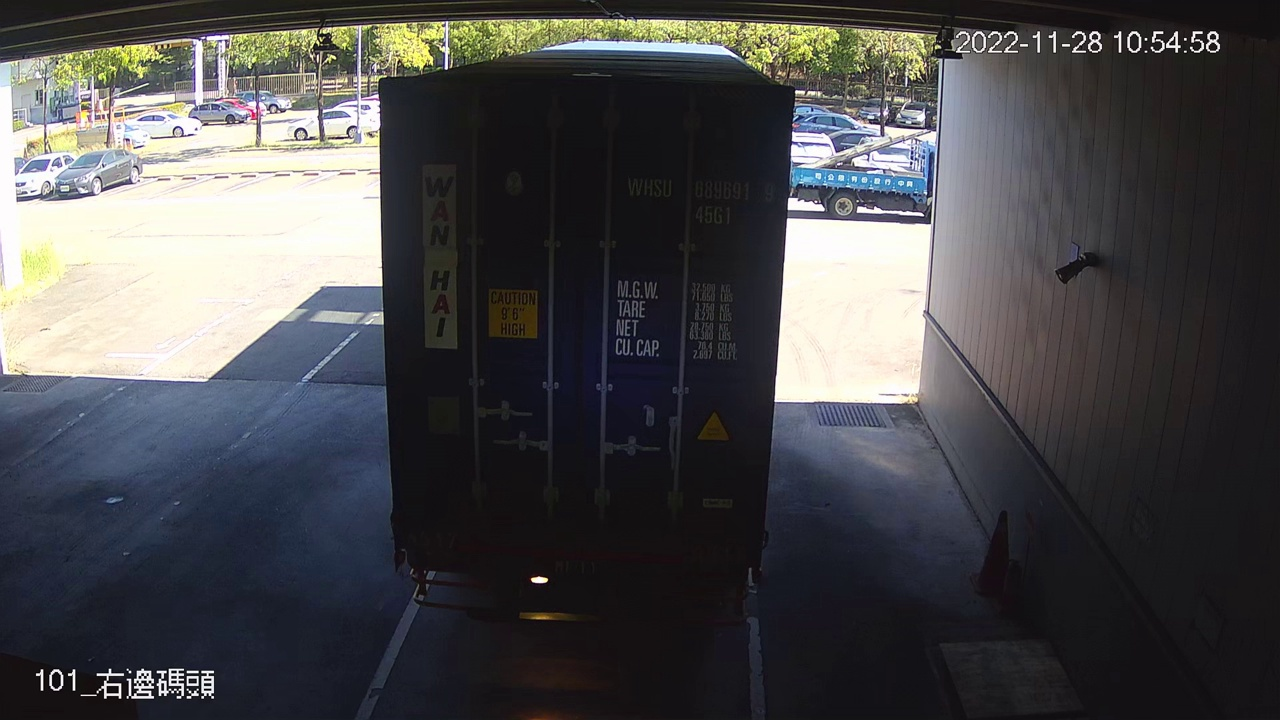container: (620, 167, 778, 232)
